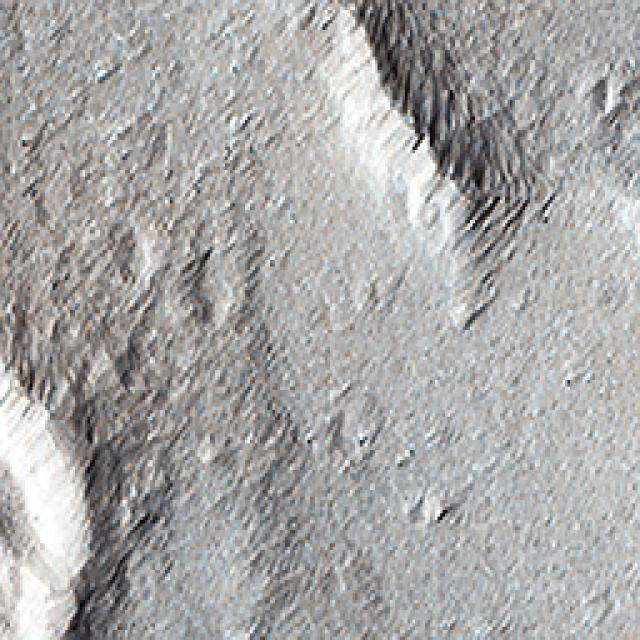Crater: (0, 260, 140, 640)
